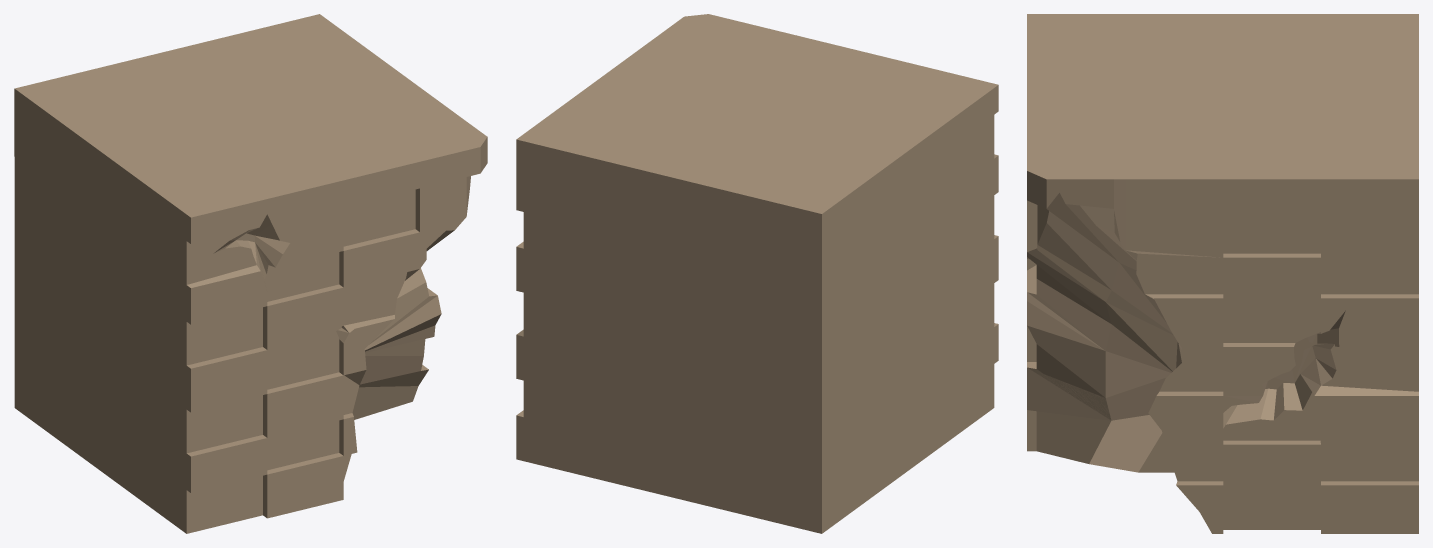
The model's file is cornerBlock_broken2_5.4..fbx.
The picture shows the model from 3 angles, left to right: view 1: azimuth 30°, elevation 25°; view 2: azimuth 150°, elevation 25°; view 3: azimuth 270°, elevation 25°; orthographic projection. The views are drawn at different scales.
Visible parts, largest first — view 1: cornerBlock_broken2; view 2: cornerBlock_broken2; view 3: cornerBlock_broken2.
Boxes of the visible parts, <box> form: cornerBlock_broken2: <box>14,14,487,533</box>; cornerBlock_broken2: <box>516,14,998,533</box>; cornerBlock_broken2: <box>1027,14,1418,533</box>.
Size of the model in its own units: 400 by 400 by 400.
